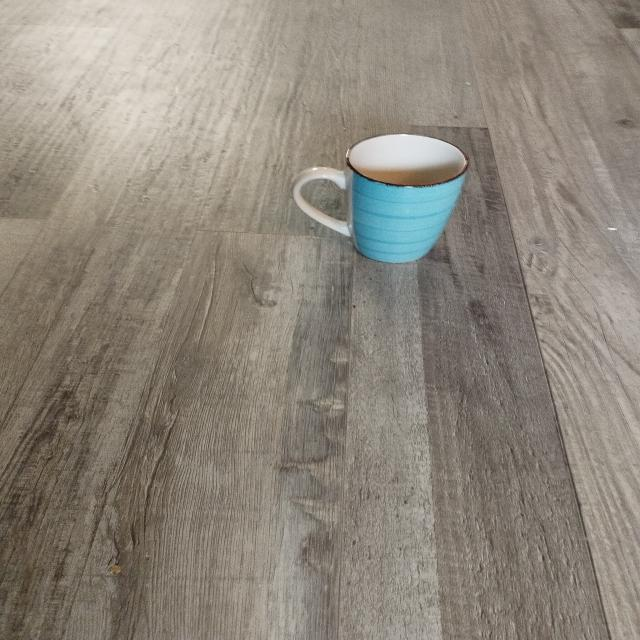Cup: (282, 110, 492, 299)
